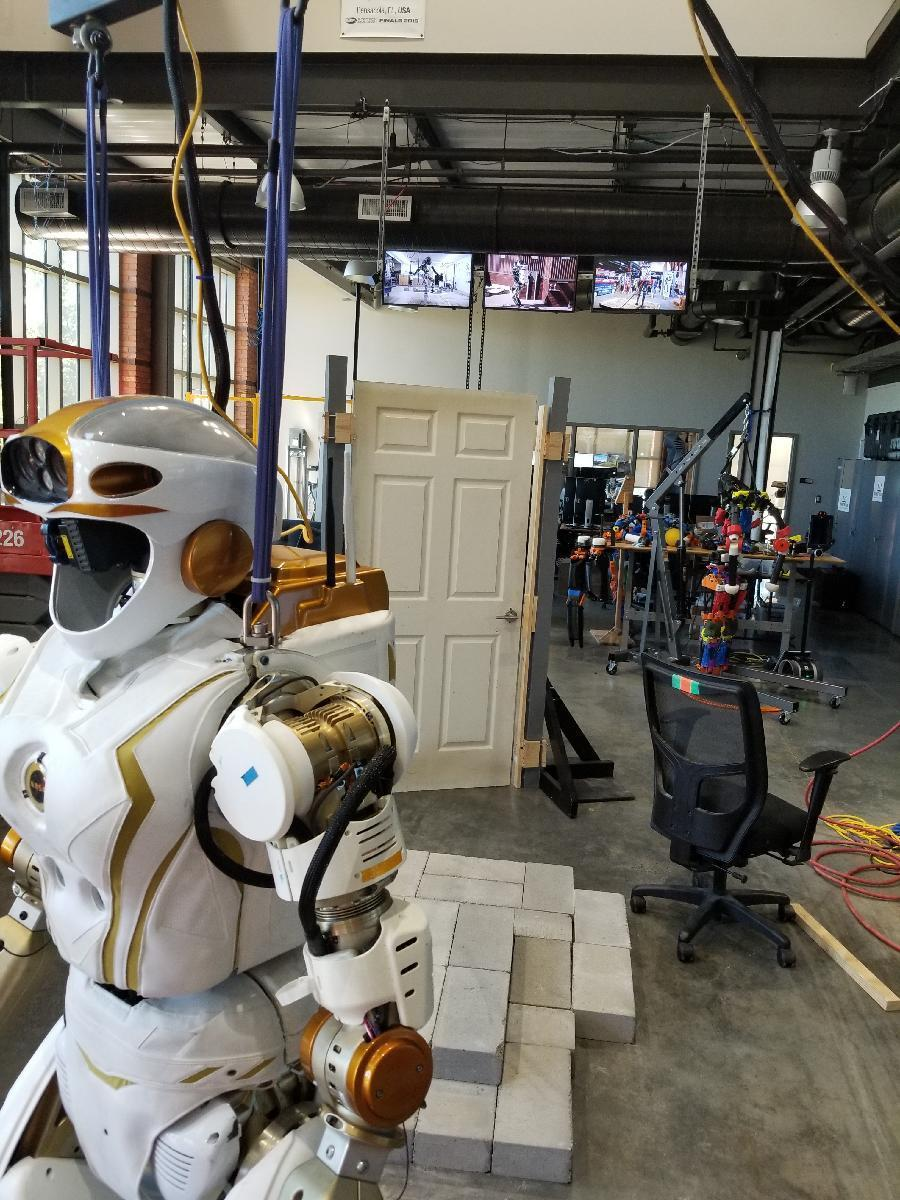door: (356, 382, 539, 797)
handle: (494, 607, 520, 625)
